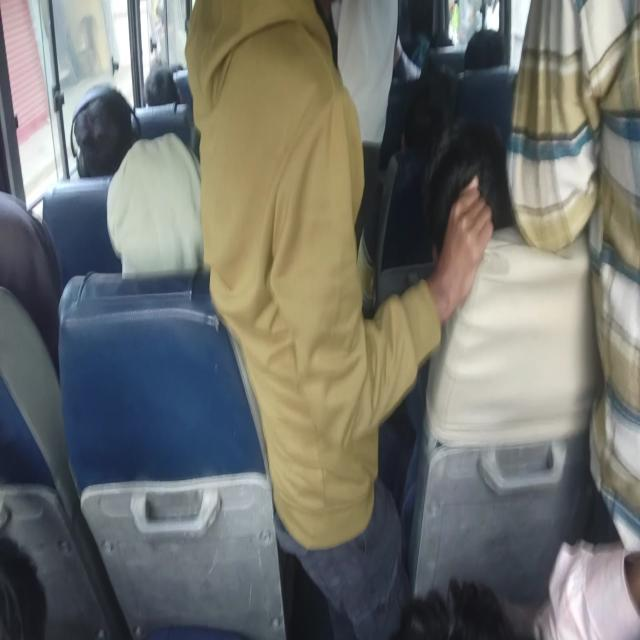person: (185, 14, 410, 432), (526, 31, 640, 480), (120, 152, 212, 274), (420, 130, 504, 256), (0, 230, 66, 351), (347, 0, 393, 149), (409, 74, 454, 155), (86, 100, 132, 162), (474, 27, 510, 76), (148, 77, 167, 106)
